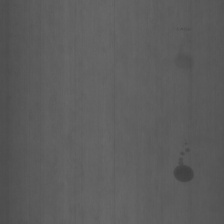oil_spot: (171, 153, 196, 191), (173, 24, 196, 36)
